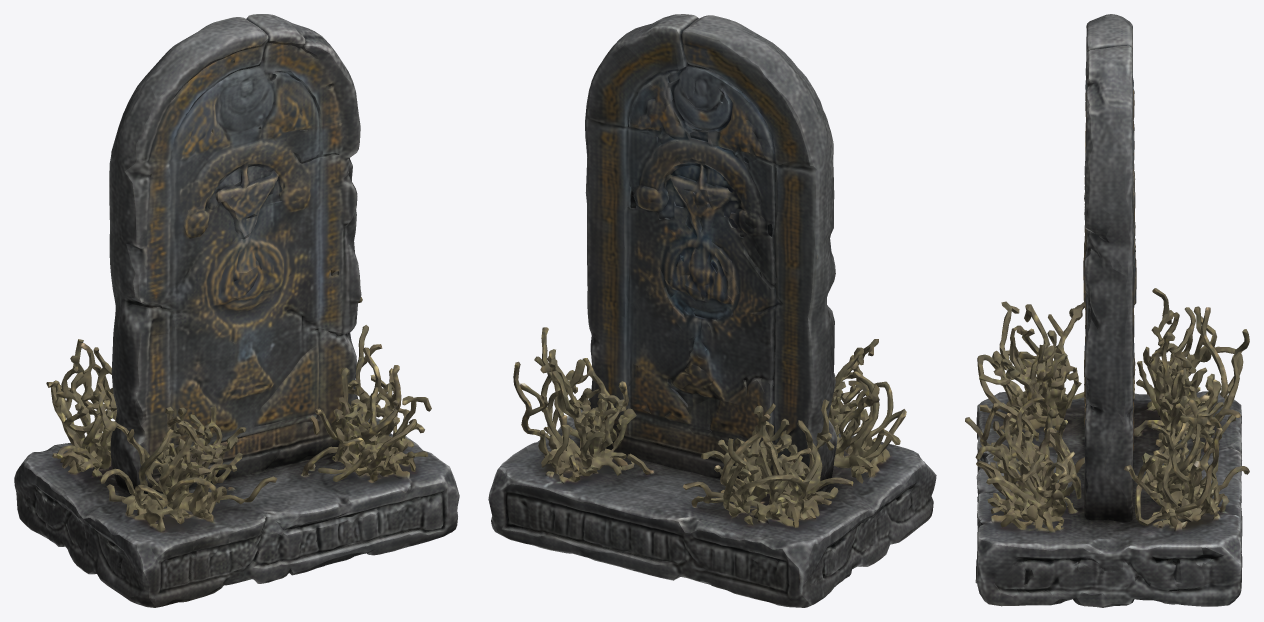
Rendered from realm.glb.
3 renders of one model, left to right at view 1: azimuth 30°, elevation 25°; view 2: azimuth 150°, elevation 25°; view 3: azimuth 270°, elevation 25°, orthographic.
Parts seen in each view (by area): view 1: world; view 2: world; view 3: world.
Boxes of the visible parts, <box> form: world: <box>14,14,459,607</box>; world: <box>488,14,936,607</box>; world: <box>965,14,1249,607</box>.
Bounding box in the file's own units: 0.4059 × 0.6 × 0.3114.
1 material, 1 textured.
